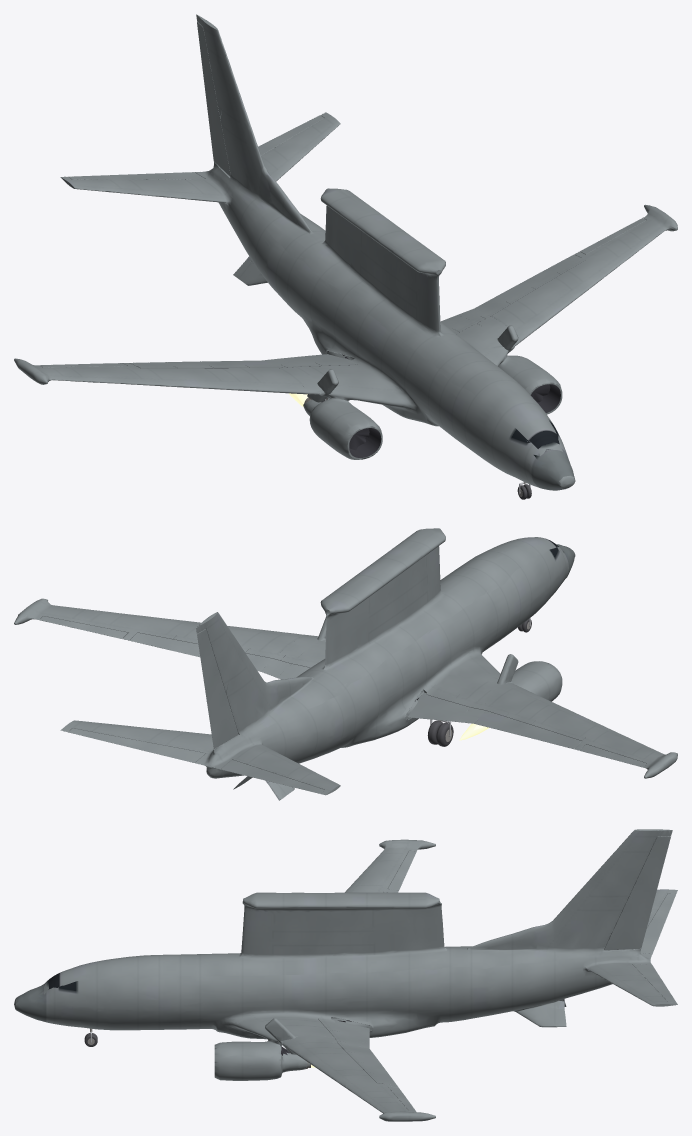
3 renders of one model, top to bottom at view 1: azimuth 30°, elevation 25°; view 2: azimuth 150°, elevation 25°; view 3: azimuth 270°, elevation 25°, orthographic. The views are drawn at different scales.
Visible parts, largest first — view 1: fsim:section:tail, fsim:section:nose, fsim:section:right-wing, fsim:section:left-wing, fsim:section:centre, fsim:flaps (×2), fsim:rudder, fsim:elevator; view 2: fsim:section:tail, fsim:section:right-wing, fsim:section:nose, fsim:section:left-wing, fsim:flaps (×2), fsim:section:centre, fsim:rudder, fsim:elevator (×2), fsim:aileron (×2), fsim:wheel:2:0.565; view 3: fsim:section:tail, fsim:section:nose, fsim:section:left-wing, fsim:section:centre, fsim:rudder, fsim:section:right-wing, fsim:elevator (×2), fsim:flaps.
Boxes of the visible parts, <box> form: fsim:section:tail: <box>14,14,677,450</box>; fsim:section:nose: <box>431,353,575,490</box>; fsim:section:right-wing: <box>18,348,411,414</box>; fsim:section:left-wing: <box>457,206,674,369</box>; fsim:section:centre: <box>333,331,562,459</box>; fsim:flaps (×2): <box>129,254,580,366</box>; fsim:rudder: <box>197,22,230,176</box>; fsim:elevator: <box>68,172,204,179</box>; fsim:section:tail: <box>14,528,677,800</box>; fsim:section:right-wing: <box>404,652,676,774</box>; fsim:section:nose: <box>450,537,575,644</box>; fsim:section:left-wing: <box>20,598,325,660</box>; fsim:flaps (×2): <box>129,632,581,749</box>; fsim:section:centre: <box>440,566,562,701</box>; fsim:rudder: <box>197,629,238,748</box>; fsim:elevator (×2): <box>68,728,324,793</box>; fsim:aileron (×2): <box>39,616,646,767</box>; fsim:wheel:2:0.565: <box>427,720,453,746</box>; fsim:section:tail: <box>219,829,677,1121</box>; fsim:section:nose: <box>14,954,202,1030</box>; fsim:section:left-wing: <box>229,1013,422,1121</box>; fsim:section:centre: <box>175,953,249,1080</box>; fsim:rudder: <box>604,836,670,950</box>; fsim:section:right-wing: <box>345,839,422,892</box>; fsim:elevator (×2): <box>632,893,676,1002</box>; fsim:flaps: <box>334,1020,397,1085</box>.
Bounding box in the file's own units: 34.56 × 12.59 × 35.09.
11 materials, 1 textured.
